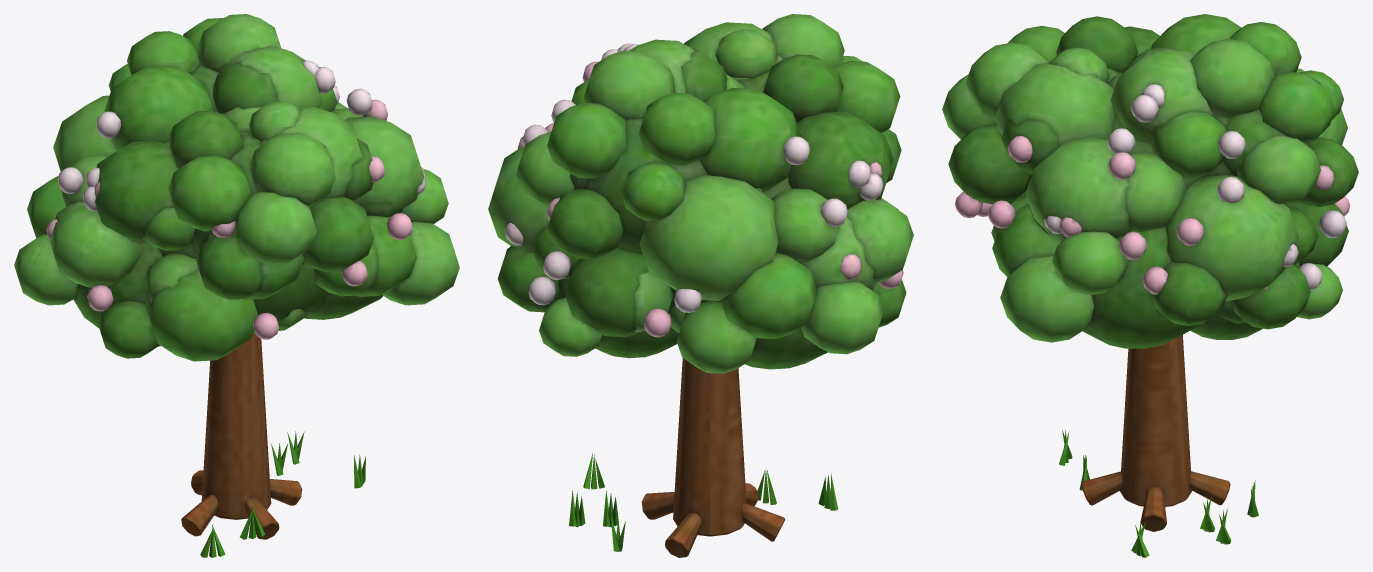
Rendered from almond_tree.glb.
3 views of the same model, side by side, from view 1: azimuth 30°, elevation 25°; view 2: azimuth 150°, elevation 25°; view 3: azimuth 270°, elevation 25° (orthographic). The views are drawn at different scales.
Visible parts, largest first — view 1: crown, almond_tree; view 2: crown, almond_tree; view 3: crown, almond_tree.
Part boxes in pixels (x1,y1,x2,y2): crown: (14,14,459,361); almond_tree: (181,333,365,557); crown: (488,14,913,373); almond_tree: (569,358,838,557); crown: (942,14,1358,348); almond_tree: (1059,334,1258,557).
Size of the model in its own units: 1.1 by 1.31 by 1.03.
1 material, 1 textured.
